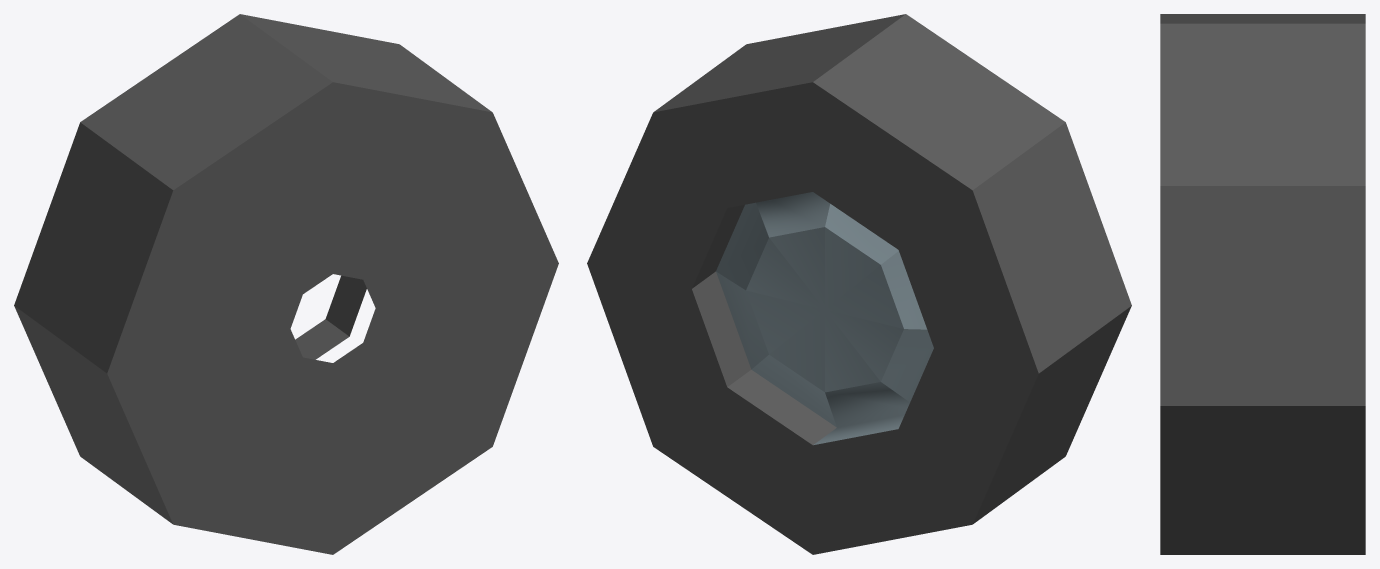
The model's file is tire.glb.
3 renders of one model, left to right at view 1: azimuth 30°, elevation 25°; view 2: azimuth 150°, elevation 25°; view 3: azimuth 270°, elevation 25°, orthographic. The views are drawn at different scales.
Parts seen in each view (by area): view 1: tire; view 2: tire; view 3: tire.
Part boxes in pixels (<box>): tire: <box>14,14,558,554</box>; tire: <box>587,14,1131,554</box>; tire: <box>1160,14,1365,554</box>.
Size of the model in its own units: 0.5996 by 0.5996 by 0.2141.
